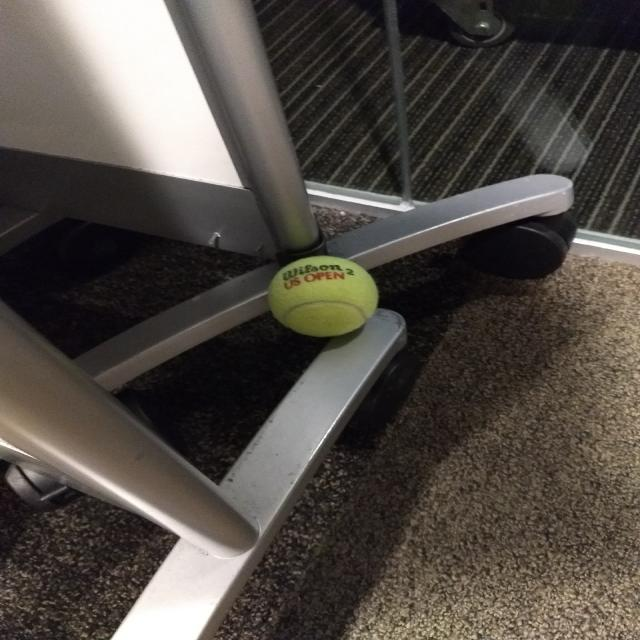Tennis-Ball: (272, 256, 379, 338)
